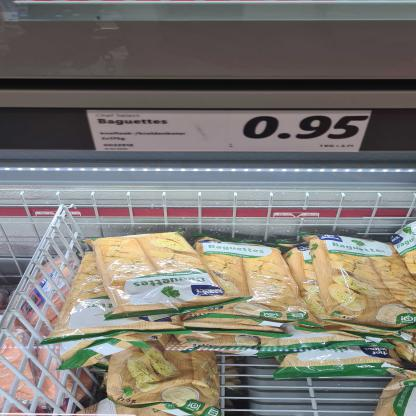prtg: (87, 111, 373, 153)
